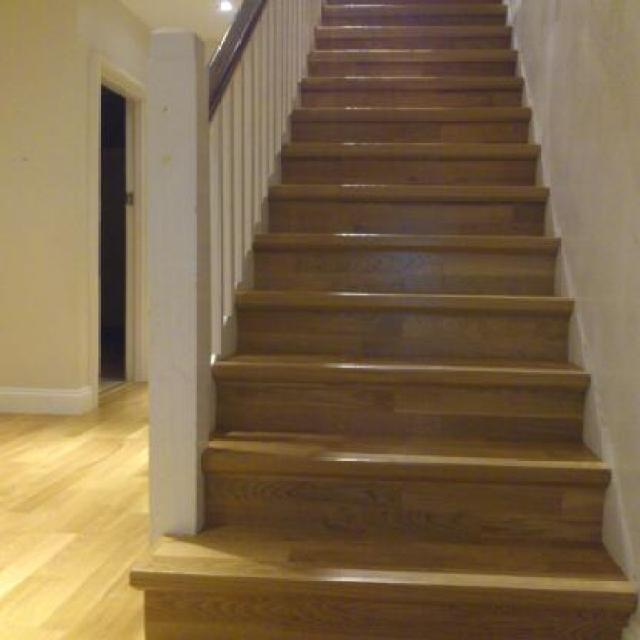stair: (101, 0, 638, 638)
